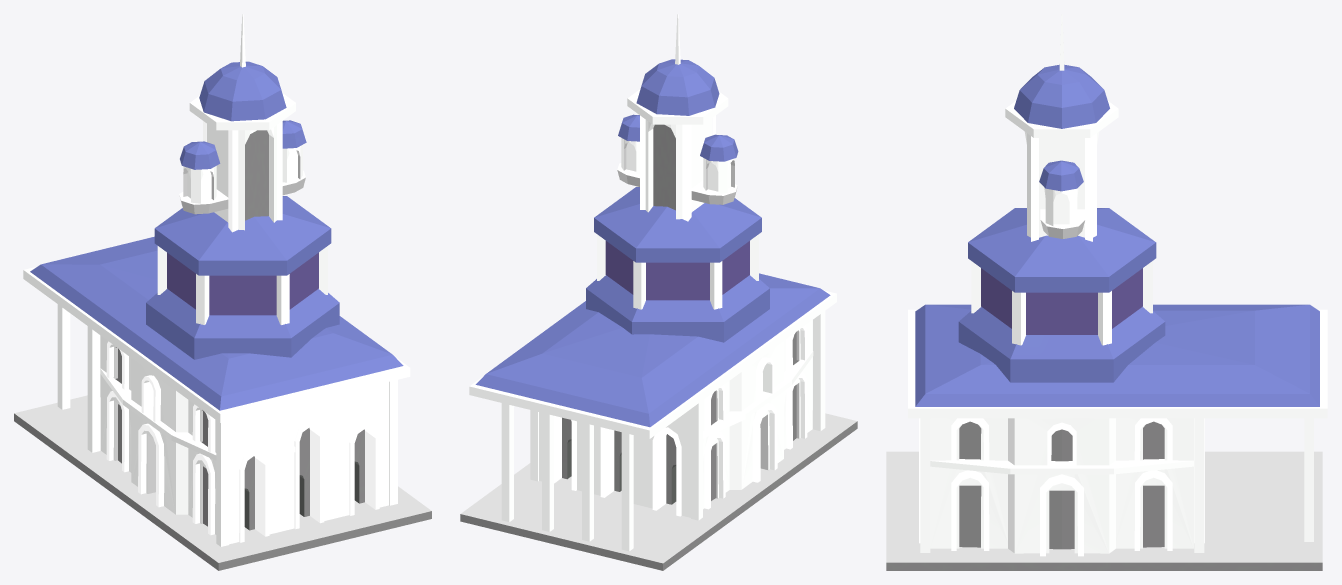
File: temple.009.glb
3 views of the same model, side by side, from view 1: azimuth 30°, elevation 25°; view 2: azimuth 150°, elevation 25°; view 3: azimuth 270°, elevation 25° (orthographic). The views are drawn at different scales.
Parts seen in each view (by area): view 1: temple.009(Clone); view 2: temple.009(Clone); view 3: temple.009(Clone).
Part boxes in pixels (x1,y1,x2,y2): temple.009(Clone): [14, 14, 431, 570]; temple.009(Clone): [460, 14, 857, 570]; temple.009(Clone): [886, 14, 1327, 570].
Bounding box in the file's own units: 11.91 × 25.1 × 20.02.
1 material, 1 textured.
